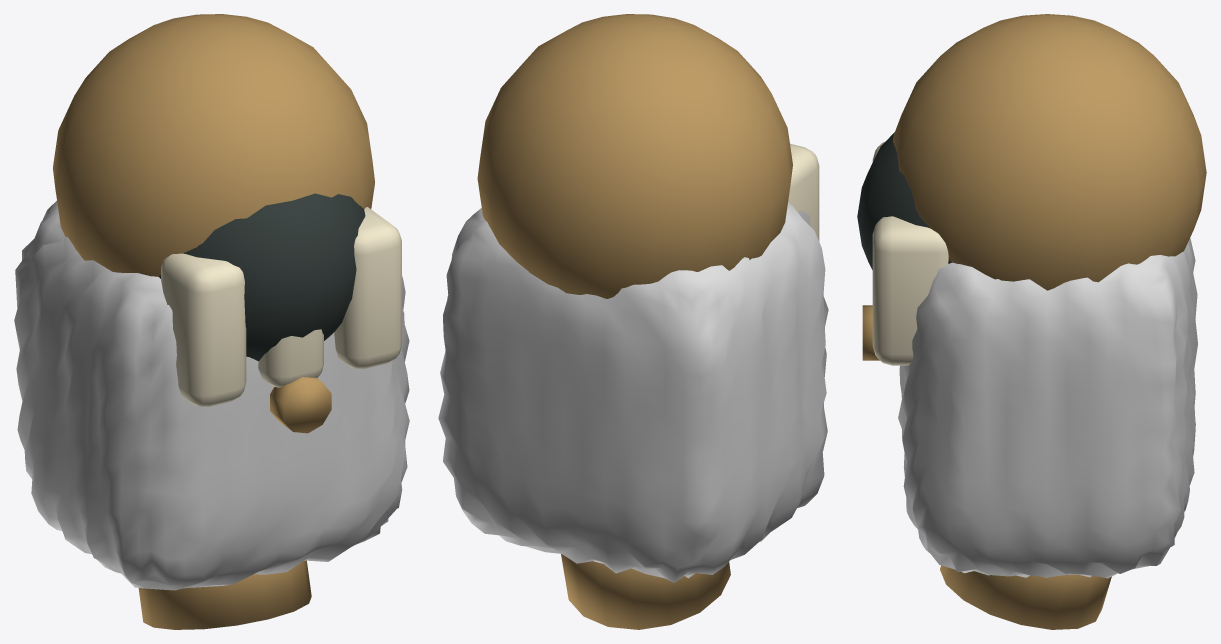
File: deadeye-arm-1.glb
3 renders of one model, left to right at view 1: azimuth 30°, elevation 25°; view 2: azimuth 150°, elevation 25°; view 3: azimuth 270°, elevation 25°, orthographic. The views are drawn at different scales.
Parts seen in each view (by area): view 1: lower_clay, upper_brass, hand_ivory, hand_mechanism, lower_brass; view 2: lower_clay, upper_brass, lower_brass, hand_ivory; view 3: lower_clay, upper_brass, hand_ivory, lower_brass, hand_mechanism.
Boxes of the visible parts, x1,y1,x2,y2 form: lower_clay: (14,201,409,590); upper_brass: (53,14,374,276); hand_ivory: (161,207,401,406); hand_mechanism: (159,193,365,361); lower_brass: (138,377,331,629); lower_clay: (438,202,828,582); upper_brass: (477,14,792,298); lower_brass: (561,554,730,629); hand_ivory: (788,143,819,241); lower_clay: (898,238,1197,578); upper_brass: (893,14,1206,290); hand_ivory: (872,142,948,365); lower_brass: (862,305,1111,629); hand_mechanism: (857,132,951,269).
Bounding box in the file's own units: 0.3968 × 0.725 × 0.395.
